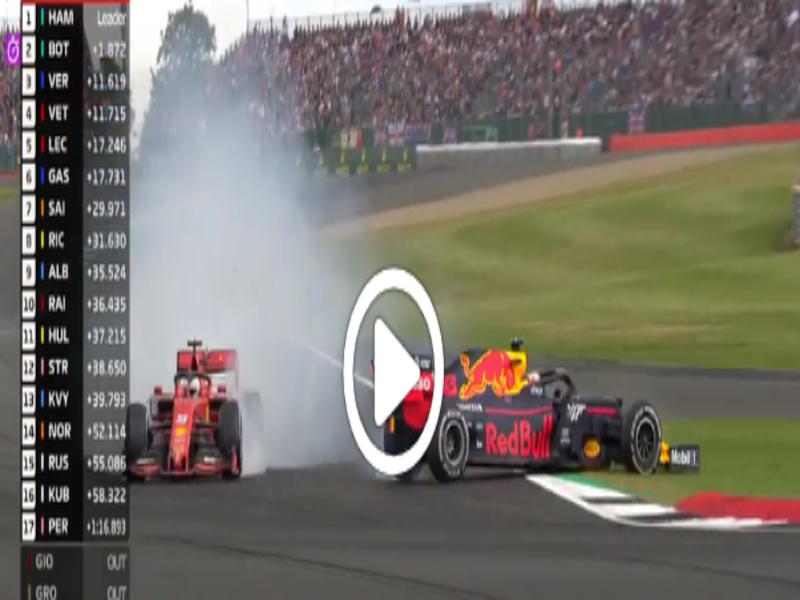f1: (383, 317, 710, 515), (128, 307, 295, 484)
